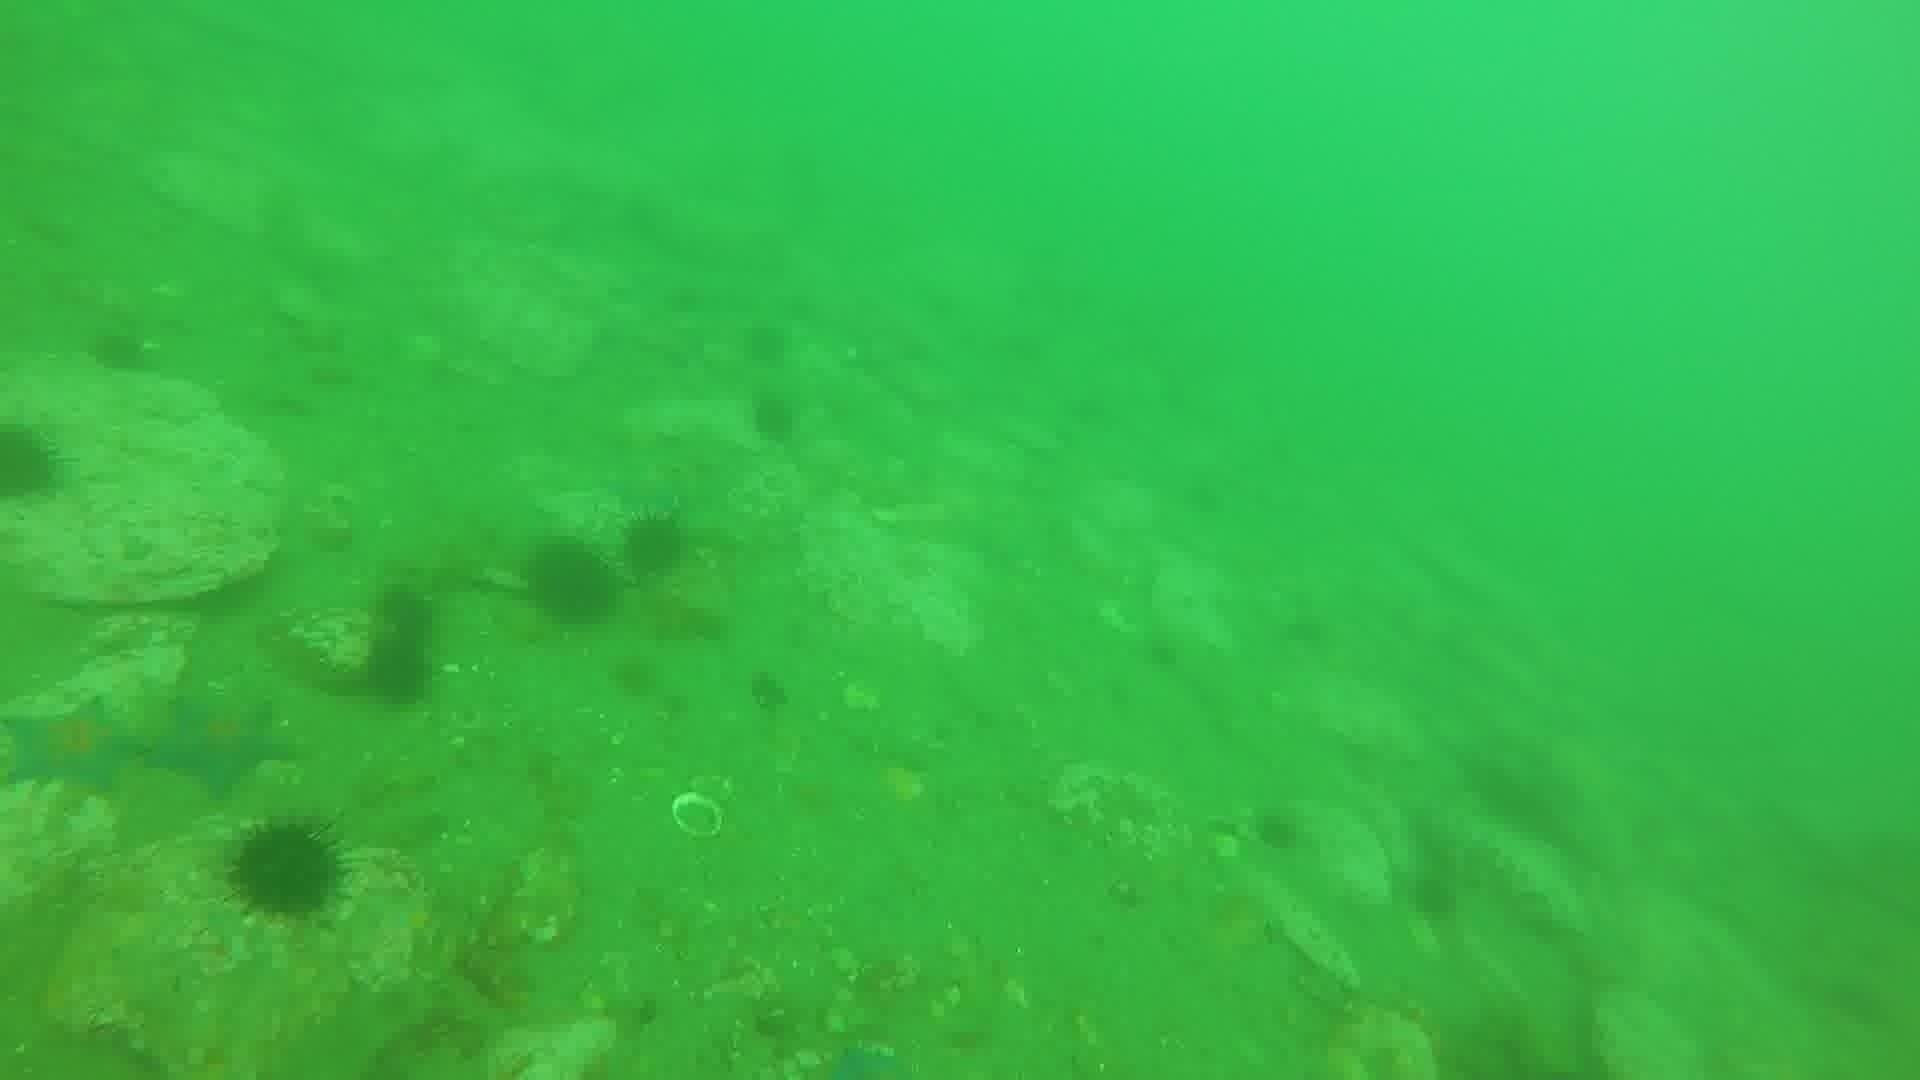echinus: (223, 815, 351, 924), (520, 535, 620, 629), (360, 633, 438, 709), (1, 417, 66, 508), (617, 509, 694, 583), (368, 578, 442, 647), (83, 320, 154, 378), (1404, 869, 1465, 928), (745, 389, 804, 447), (736, 316, 796, 371), (1247, 804, 1309, 857), (607, 651, 663, 703), (745, 669, 794, 717)
starfish: (145, 688, 295, 799), (3, 696, 149, 800)
